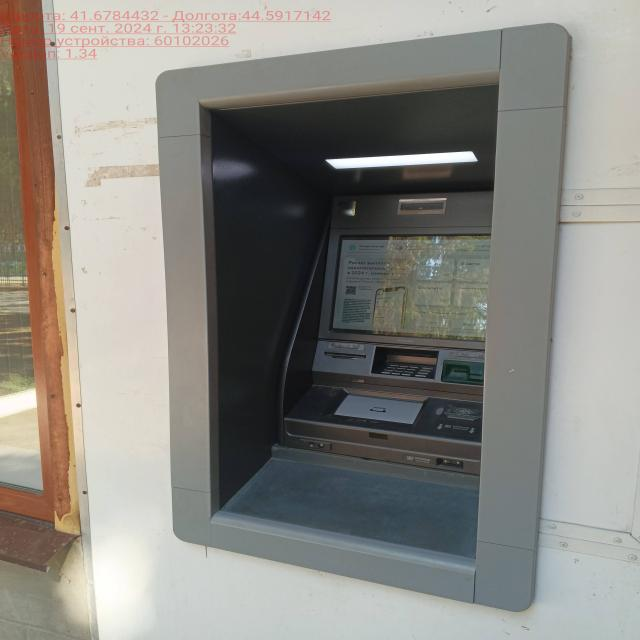bank: (154, 68, 548, 582)
